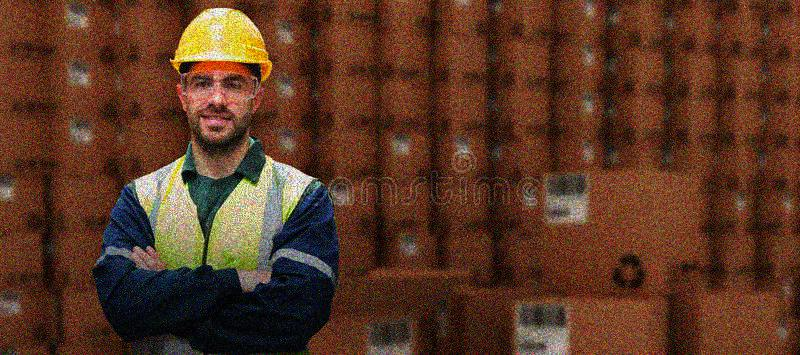helmet: (167, 7, 273, 147)
